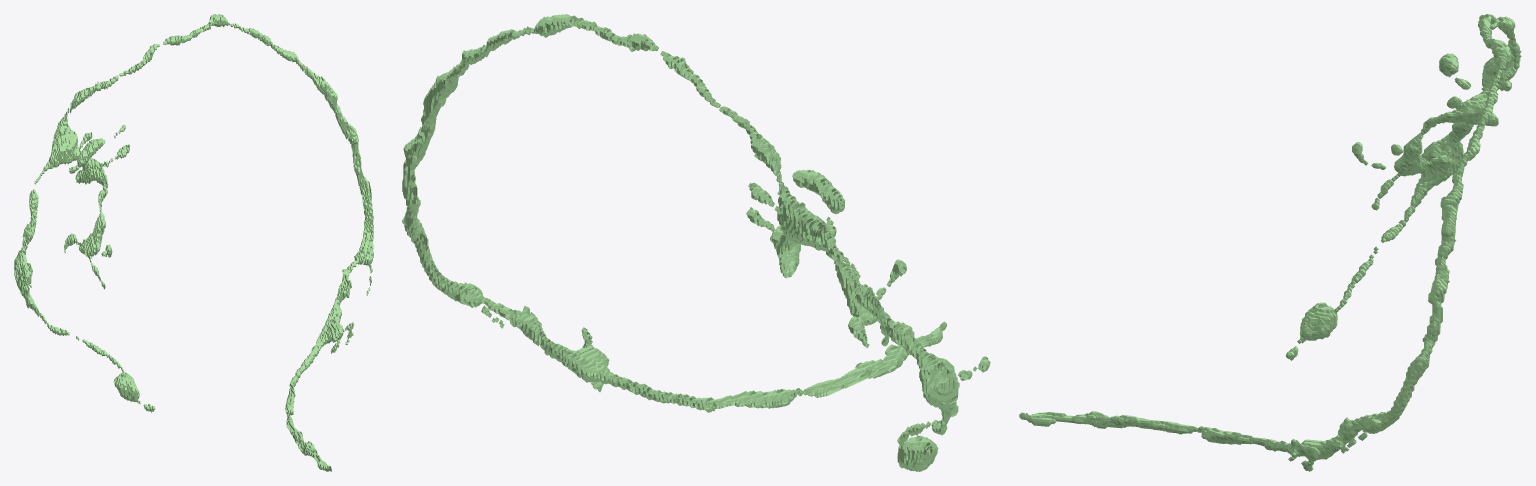
The model's file is SVV_RMFR.gltf.
3 renders of one model, left to right at view 1: azimuth 30°, elevation 25°; view 2: azimuth 150°, elevation 25°; view 3: azimuth 270°, elevation 25°, orthographic. The views are drawn at different scales.
Visible parts, largest first — view 1: RMFR; view 2: RMFR; view 3: RMFR.
Boxes of the visible parts, left/top/right/bottom form: RMFR: left=14, top=14, right=373, bottom=471; RMFR: left=402, top=14, right=990, bottom=471; RMFR: left=1019, top=14, right=1521, bottom=471.
Size of the model in its own units: 144999 by 123323 by 132461.
